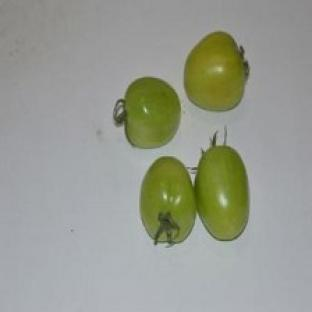Tomato: (195, 136, 249, 240), (184, 31, 249, 111), (140, 156, 196, 245), (115, 77, 181, 147)
